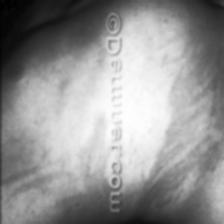Toxin: (165, 25, 224, 190), (85, 126, 105, 196), (143, 153, 165, 210)
